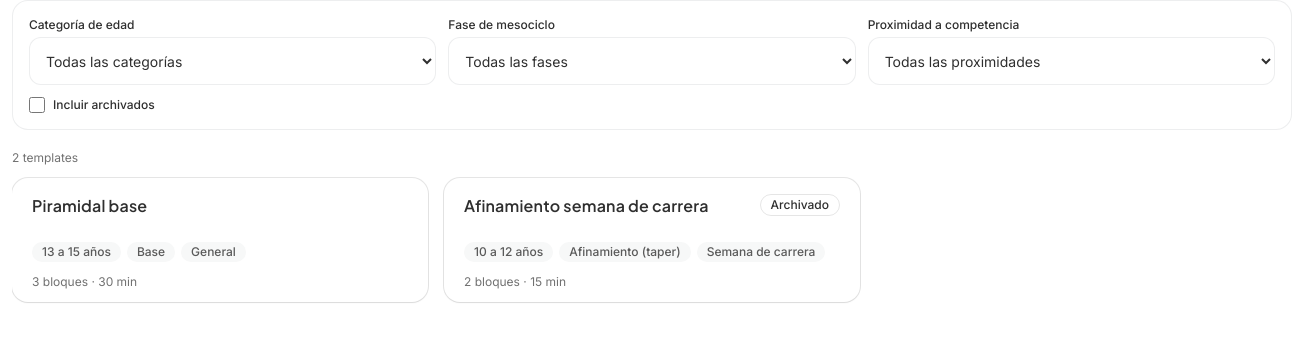
Test: TemplatePicker — filtros › con un filtro activo aparece 'Limpiar filtros' y '1 filtro activo'
Select "10 a 12 años" in the dropdown labelled "Categoría de edad" at (233, 61), box [29,37,436,85]
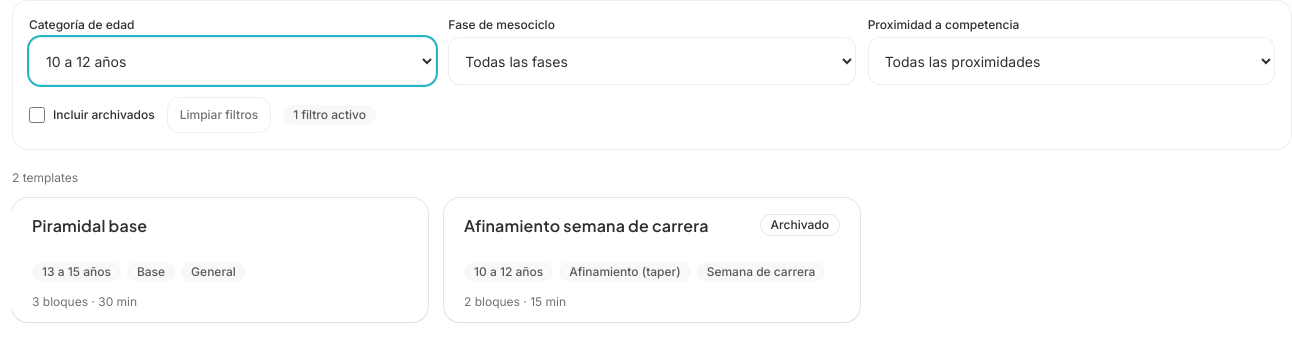
Check: the button "Limpiar filtros" is shown, box [167,97,271,133]
Check: the text "1 filtro activo" is shown, box [283,105,376,125]
